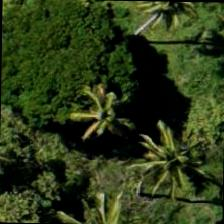Kelapa_Sawit: (59, 68, 151, 160), (55, 73, 147, 165), (125, 123, 217, 215)
